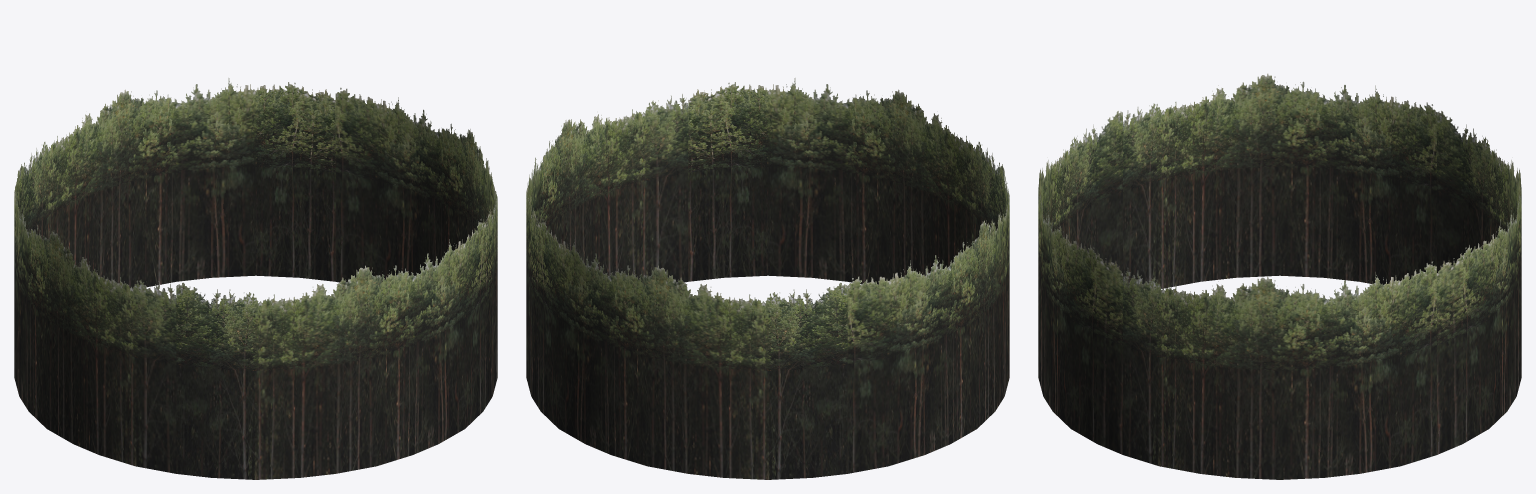
The model's file is SM_NeoLD_02_TreeLine_00.fbx.
3 views of the same model, side by side, from view 1: azimuth 30°, elevation 25°; view 2: azimuth 150°, elevation 25°; view 3: azimuth 270°, elevation 25° (orthographic).
Visible parts, largest first — view 1: SM_NeoLD_02_TreeLine_00; view 2: SM_NeoLD_02_TreeLine_00; view 3: SM_NeoLD_02_TreeLine_00.
Boxes of the visible parts, x1,y1,x2,y2 form: SM_NeoLD_02_TreeLine_00: (14,78,497,479); SM_NeoLD_02_TreeLine_00: (526,78,1009,479); SM_NeoLD_02_TreeLine_00: (1038,73,1521,479).
Size of the model in its own units: 6605 by 3948 by 6605.
